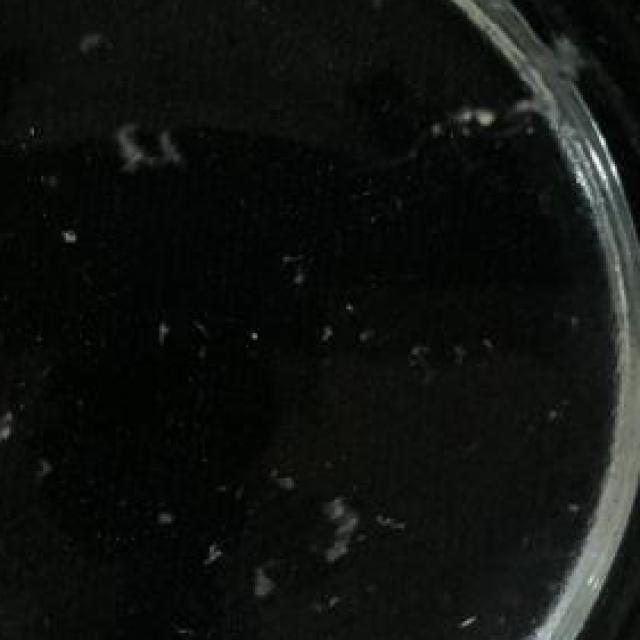Microplastic: (510, 0, 640, 202), (321, 488, 401, 573), (110, 95, 184, 181), (246, 538, 289, 606), (0, 381, 23, 452), (184, 606, 232, 640)
